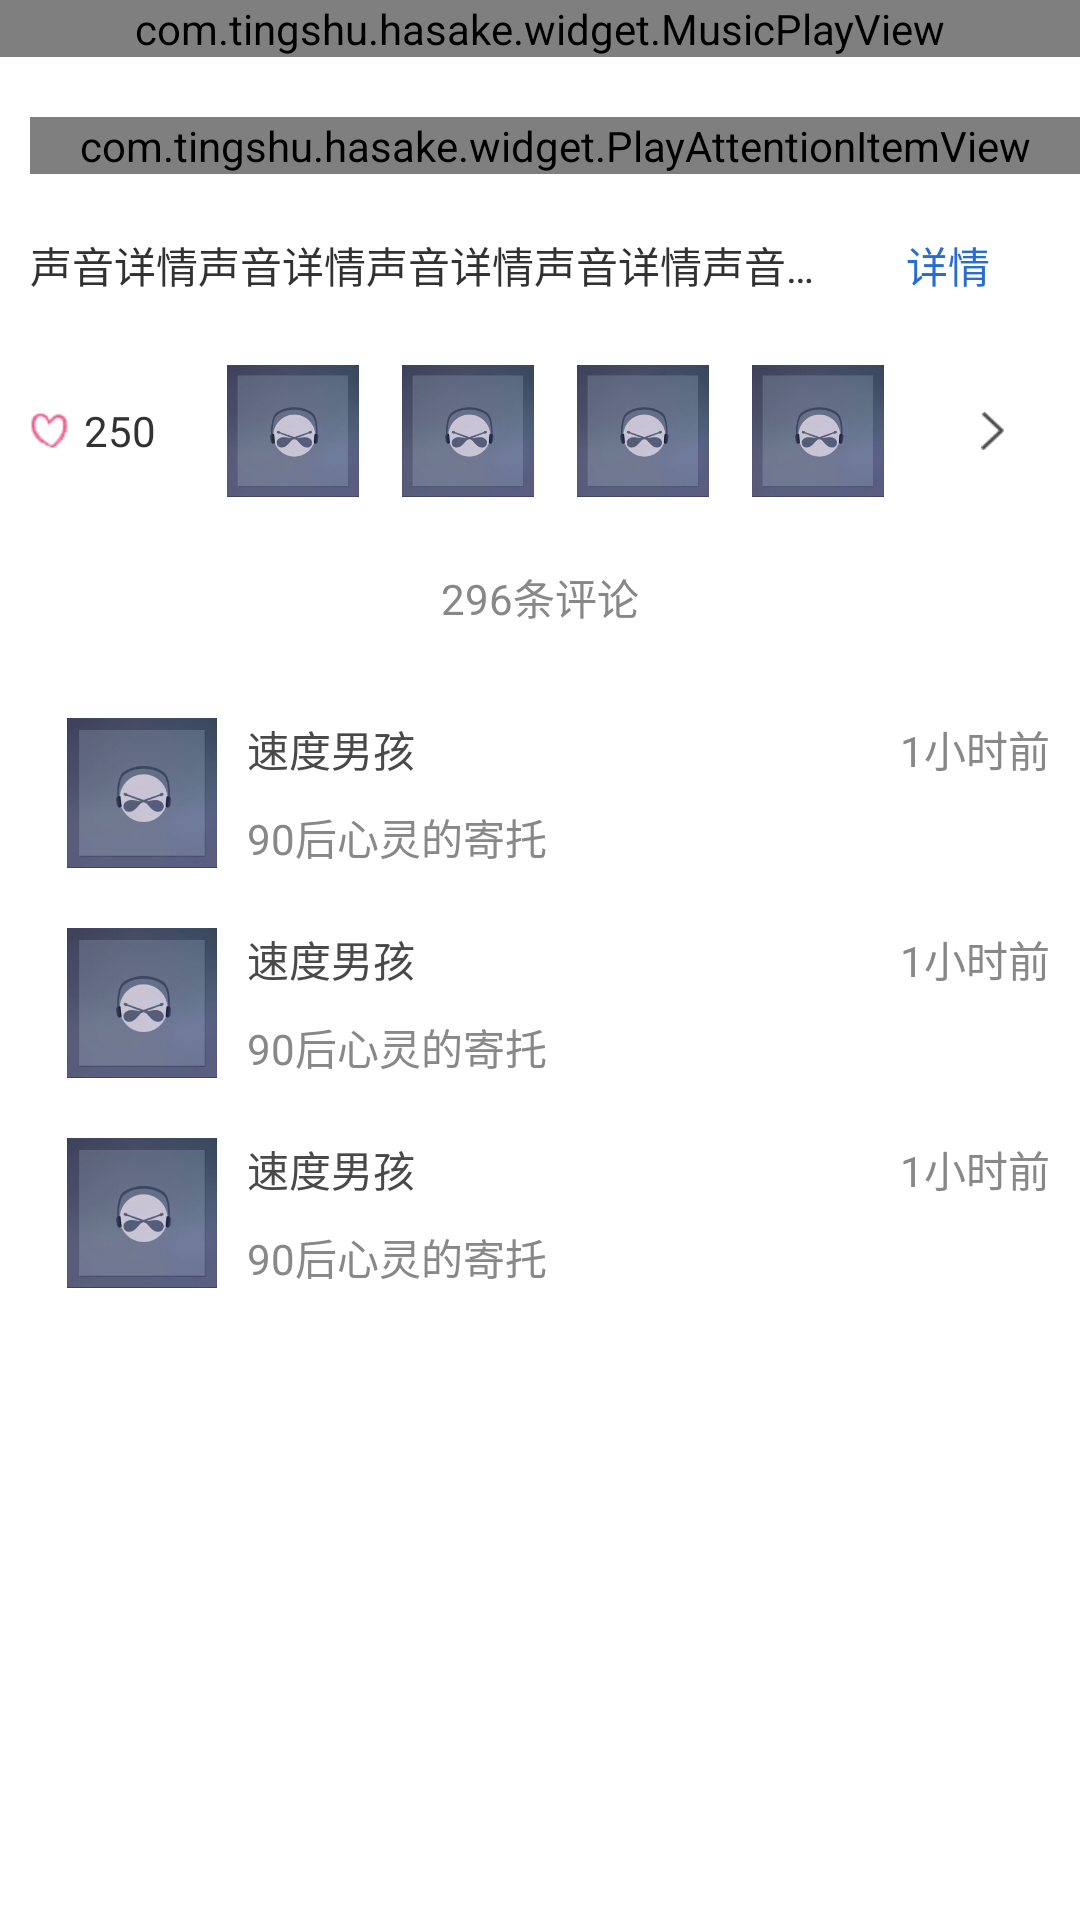

Named icons in this screenshot (1080px×1920px) and their centers, (x=x, y=y):
play more: (x=992, y=431)
